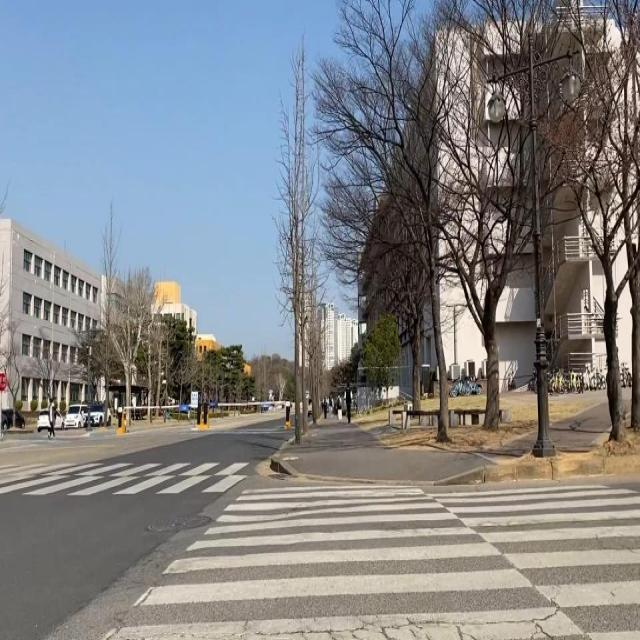sidewalk: (273, 413, 536, 480), (550, 401, 611, 452), (54, 425, 118, 436), (0, 439, 30, 445)
